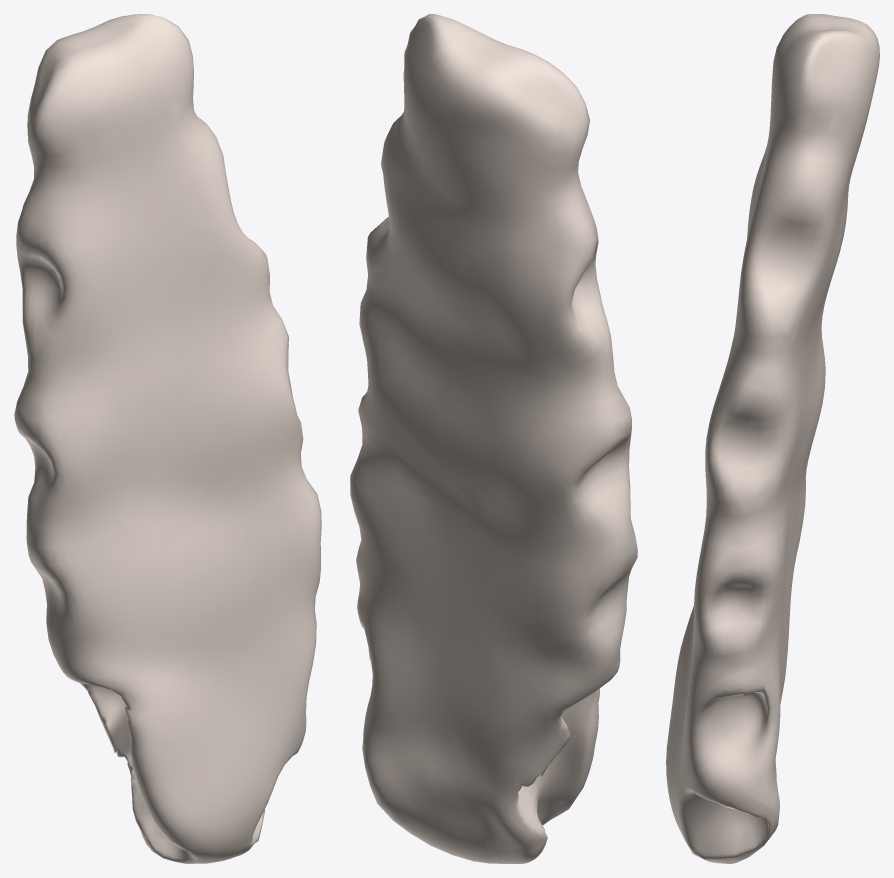
File: sternum.glb
The picture shows the model from 3 angles, left to right: view 1: azimuth 30°, elevation 25°; view 2: azimuth 150°, elevation 25°; view 3: azimuth 270°, elevation 25°; orthographic projection. The views are drawn at different scales.
Visible parts, largest first — view 1: VH_F_sternum; view 2: VH_F_sternum; view 3: VH_F_sternum.
Boxes of the visible parts, x1,y1,x2,y2 form: VH_F_sternum: (14,14,321,863); VH_F_sternum: (350,14,637,863); VH_F_sternum: (666,14,879,863).
Size of the model in its own units: 0.0367 by 0.1057 by 0.0252.
